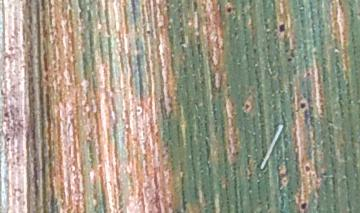tarspot: (298, 199, 311, 211), (277, 21, 287, 35), (302, 163, 313, 175), (299, 98, 308, 112), (241, 102, 253, 112), (224, 5, 234, 15), (284, 55, 294, 65)
